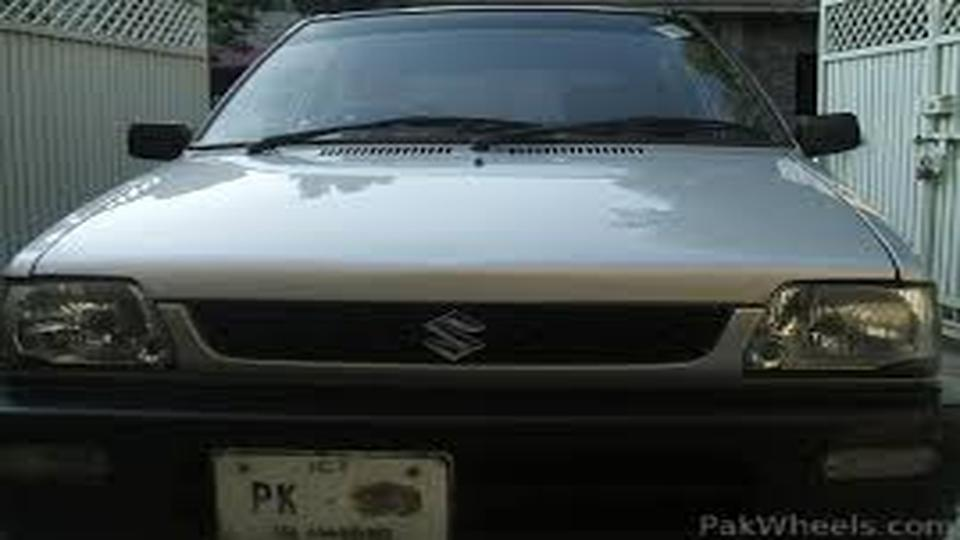NumberPlate: (185, 441, 454, 540)
